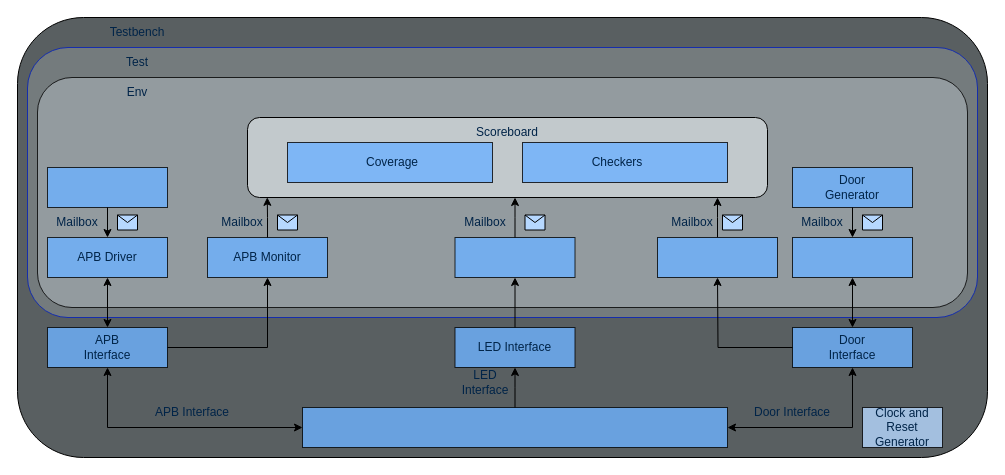
This 1005x475 diagram has some shape labels left out. The shapes that lost their labels are listed below. From the top down, each one's box as (x1, y1, x2, y2) in pixels, then its label:
(46, 166, 168, 208): APB Generator
(454, 236, 575, 278): LED Monitor
(656, 236, 778, 278): Door Monitor
(792, 236, 912, 278): Door Driver
(302, 406, 728, 448): DUT
